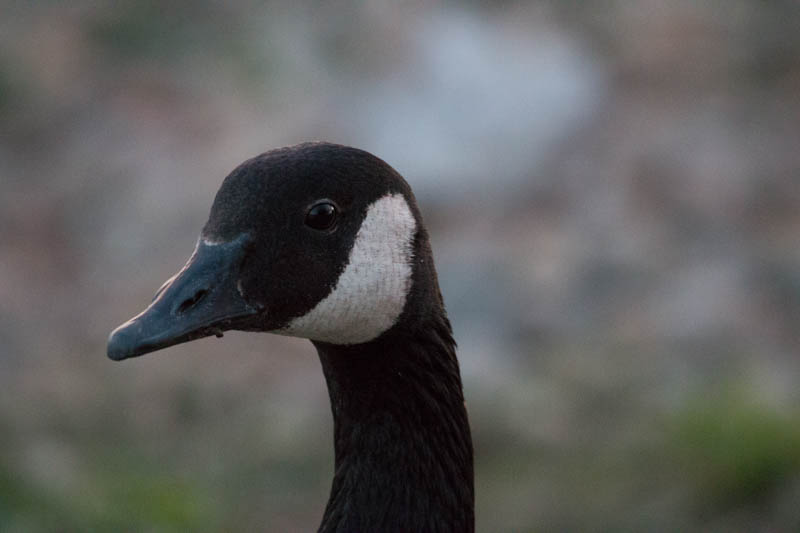goose-head: (104, 141, 443, 365)
